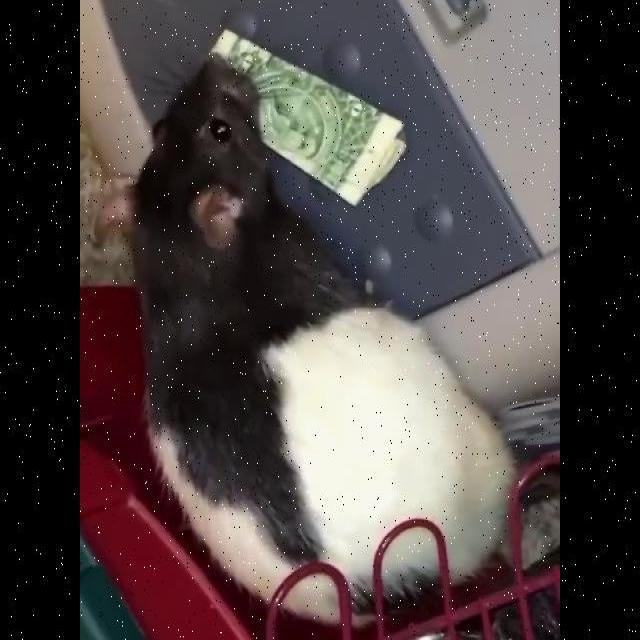rat: (91, 50, 515, 630)
